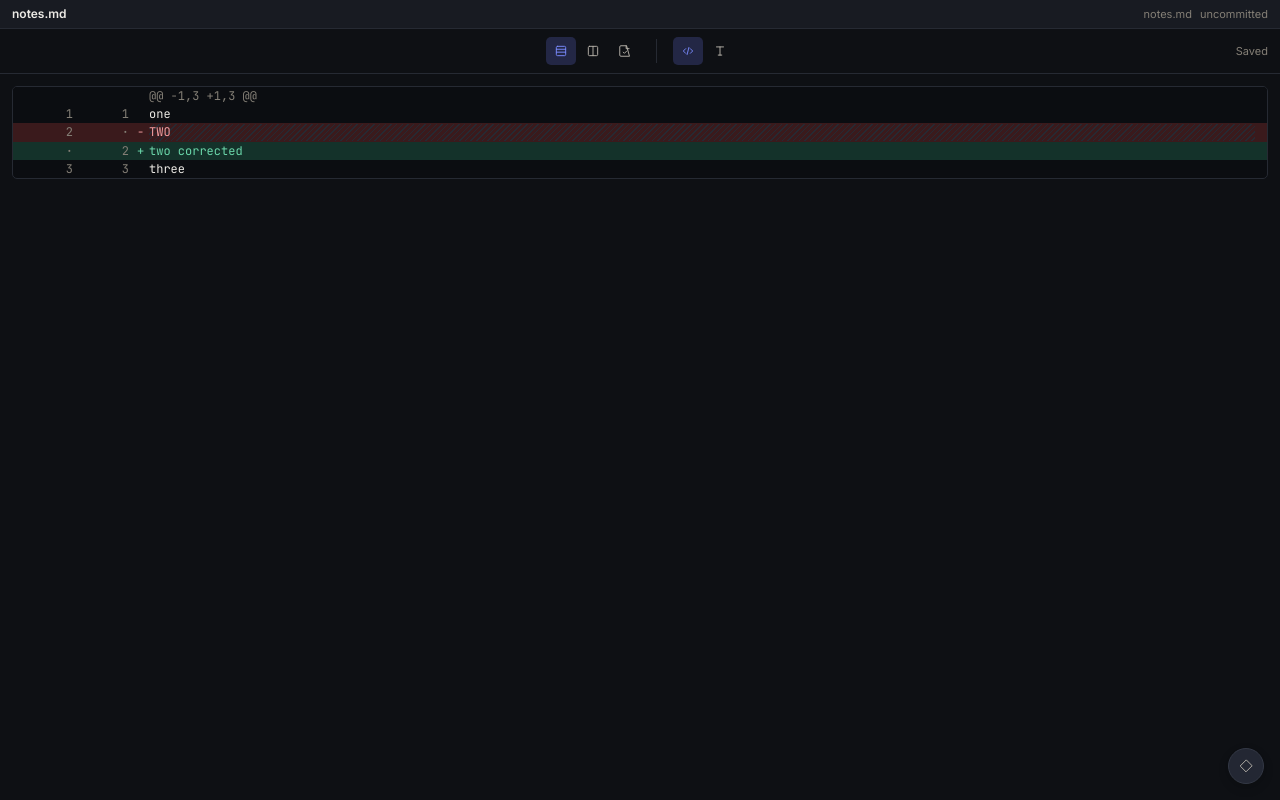
the editable target (DFV-FR-41 .. DFV-FR-50) › DFV-FR-41, DFV-FR-43, DFV-FR-44, DFV-FR-51 edits an added row and a context row, and writes the whole file
This screenshot has width=1280, height=800.
Check: the element showing "@@ -1,3 +1,3 @@" is shown, box [13,87,1267,105]
Clear the field labelled "two corrected": (196, 151) [149,143,243,159]
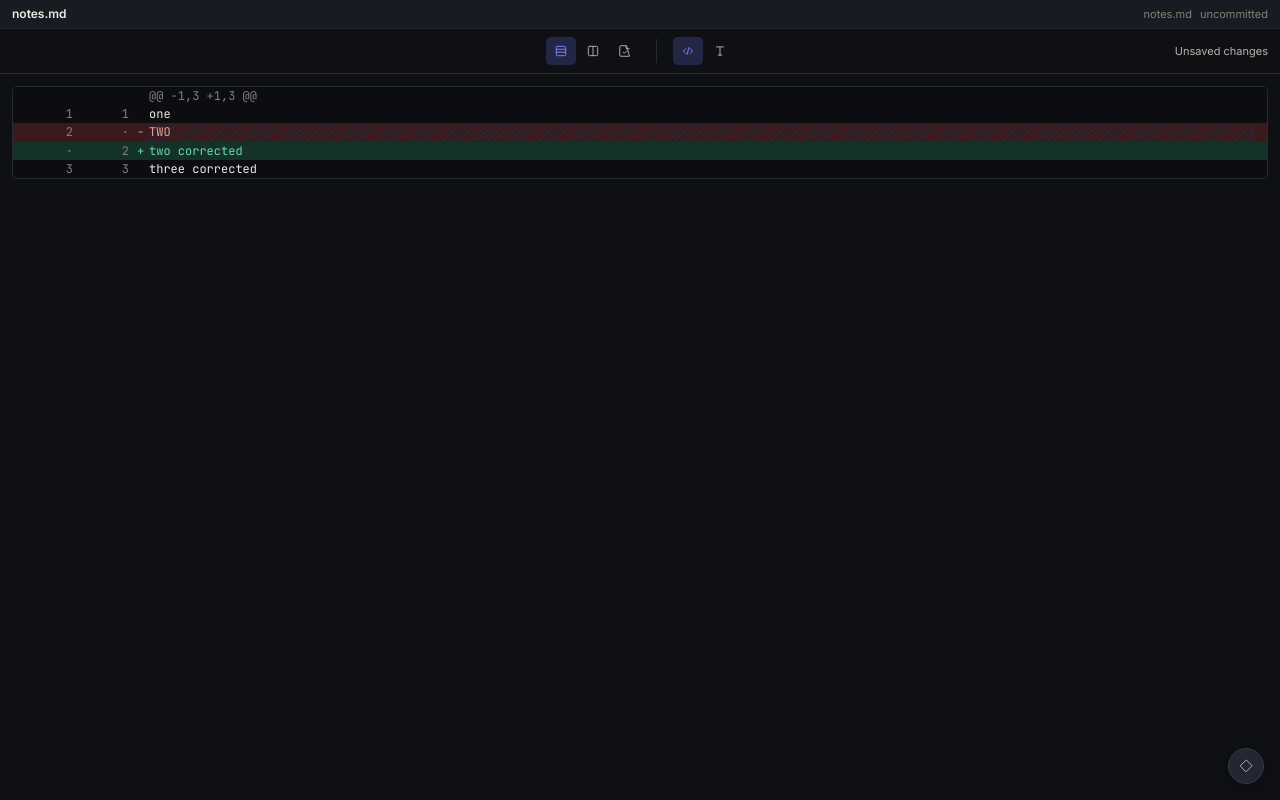
Check: the message reads "Unsaved changes", box [1175,44,1268,58]
